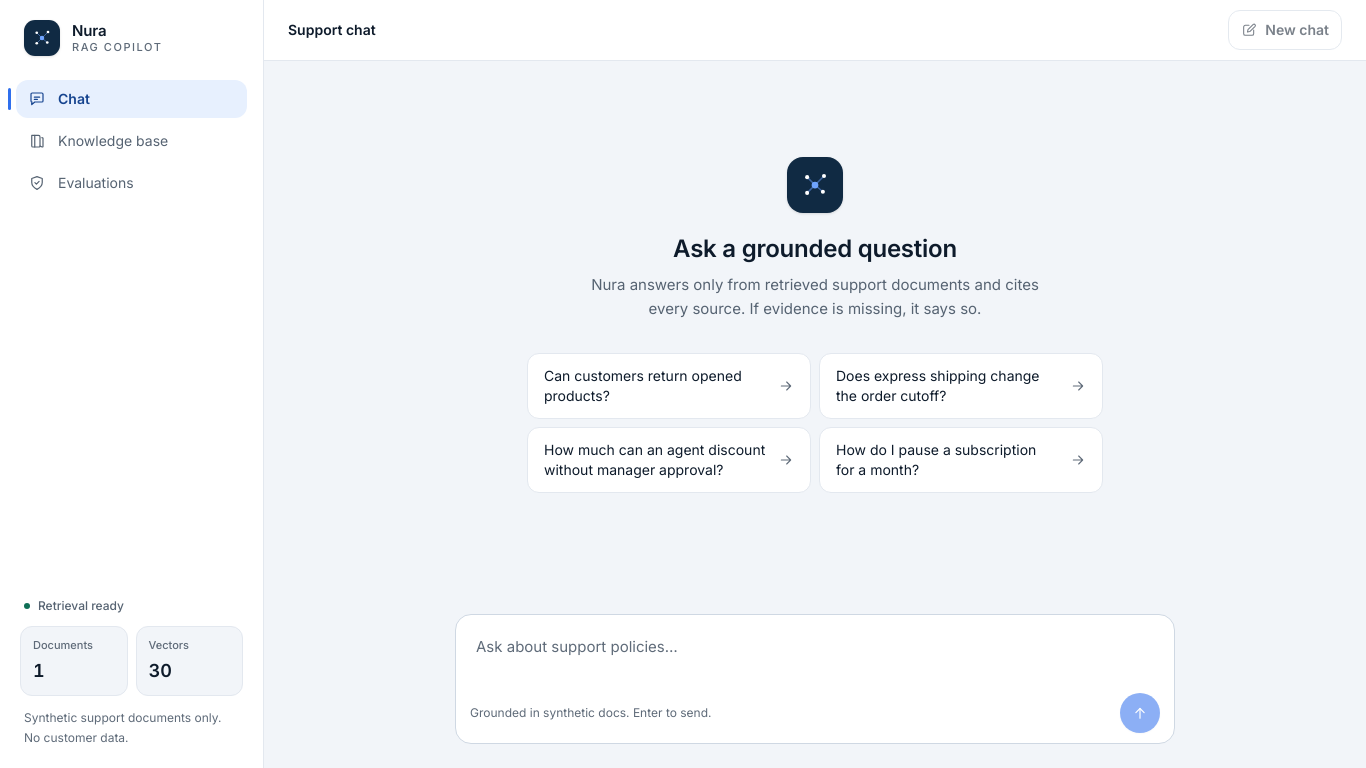
Scenario: RagVisibilityDashboard › keeps conversation context server-owned for follow-up questions
In the text box named "Question": {"x": 815, "y": 655} [464,623,1166,687], type "Can customers return opened products?"
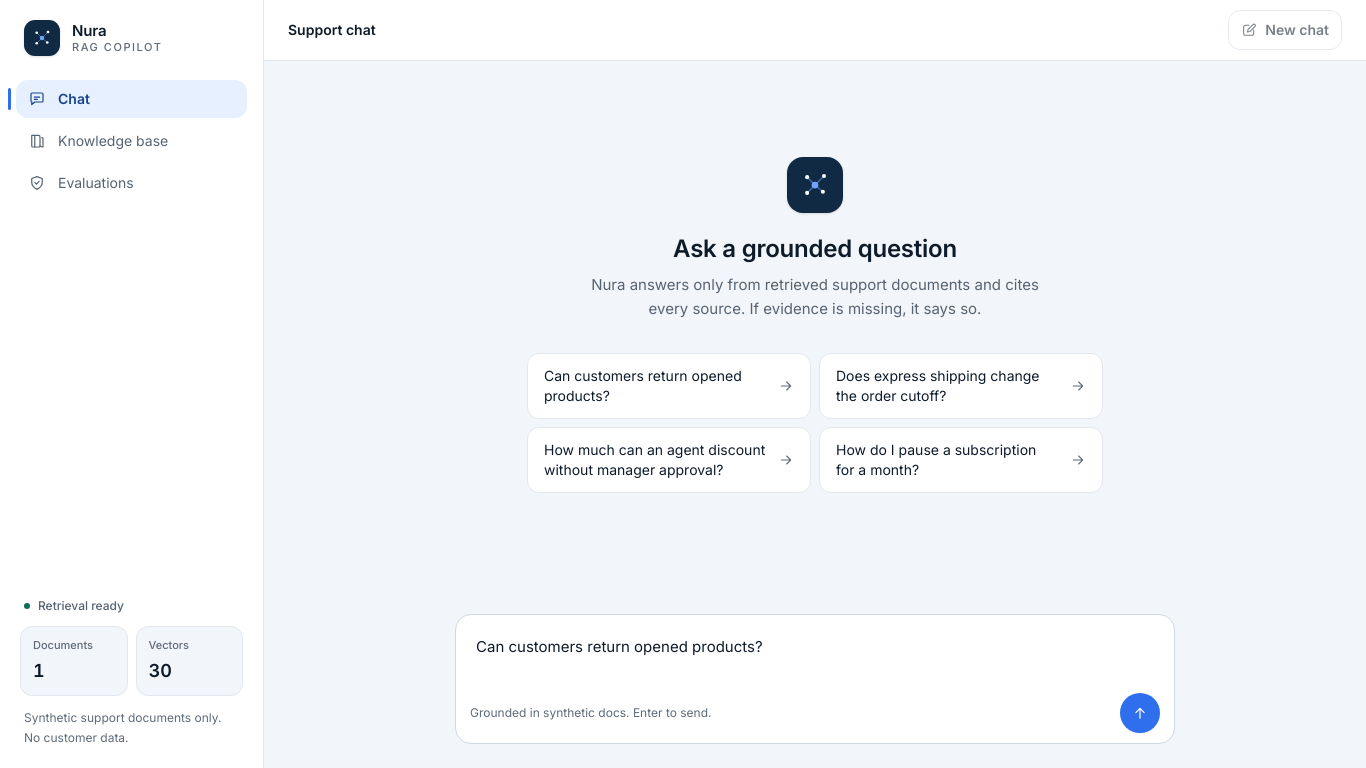
Click the button named "Generate answer": {"x": 1140, "y": 713} [1120,693,1160,733]
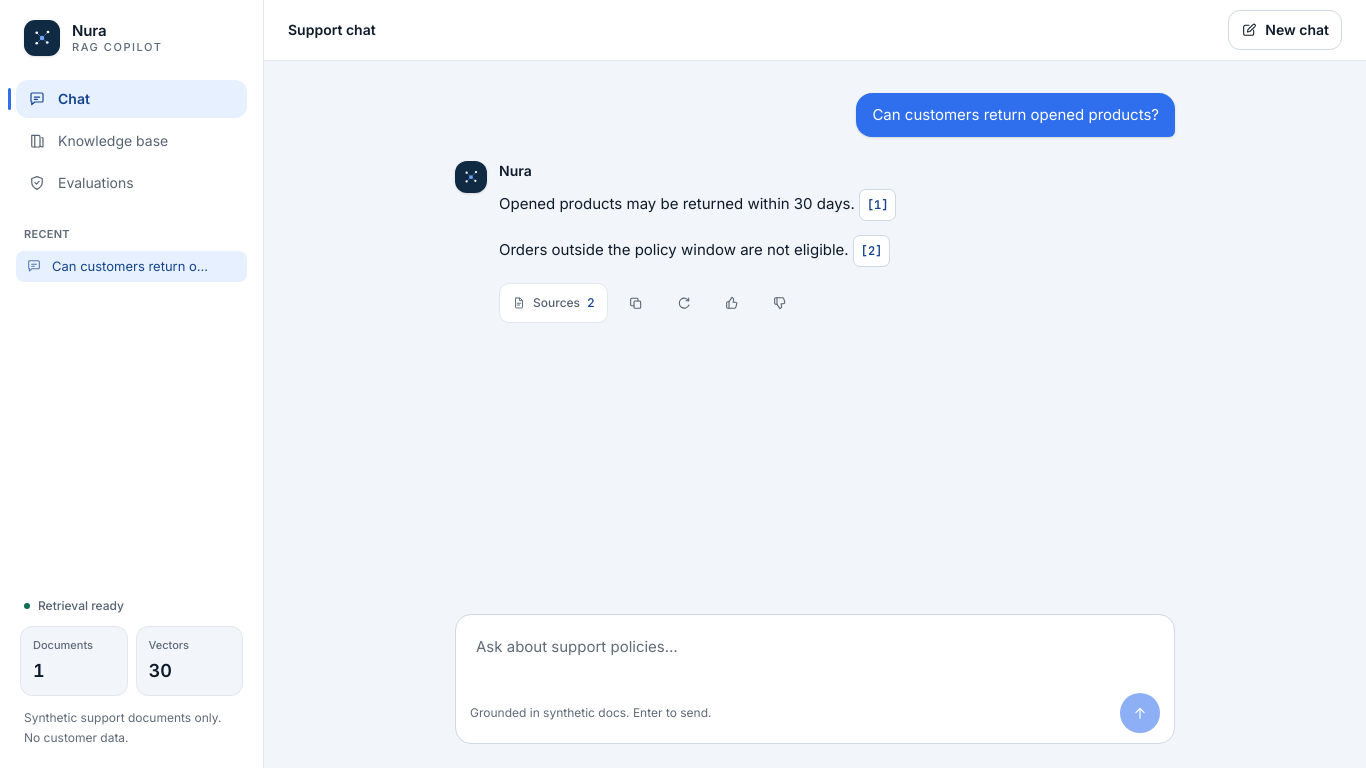
Expected: the text "Opened products may be returned within 30 days." is shown, [499,194,855,213]
In the text box named "Question": {"x": 815, "y": 655} [464,623,1166,687], type "What about express shipping?"
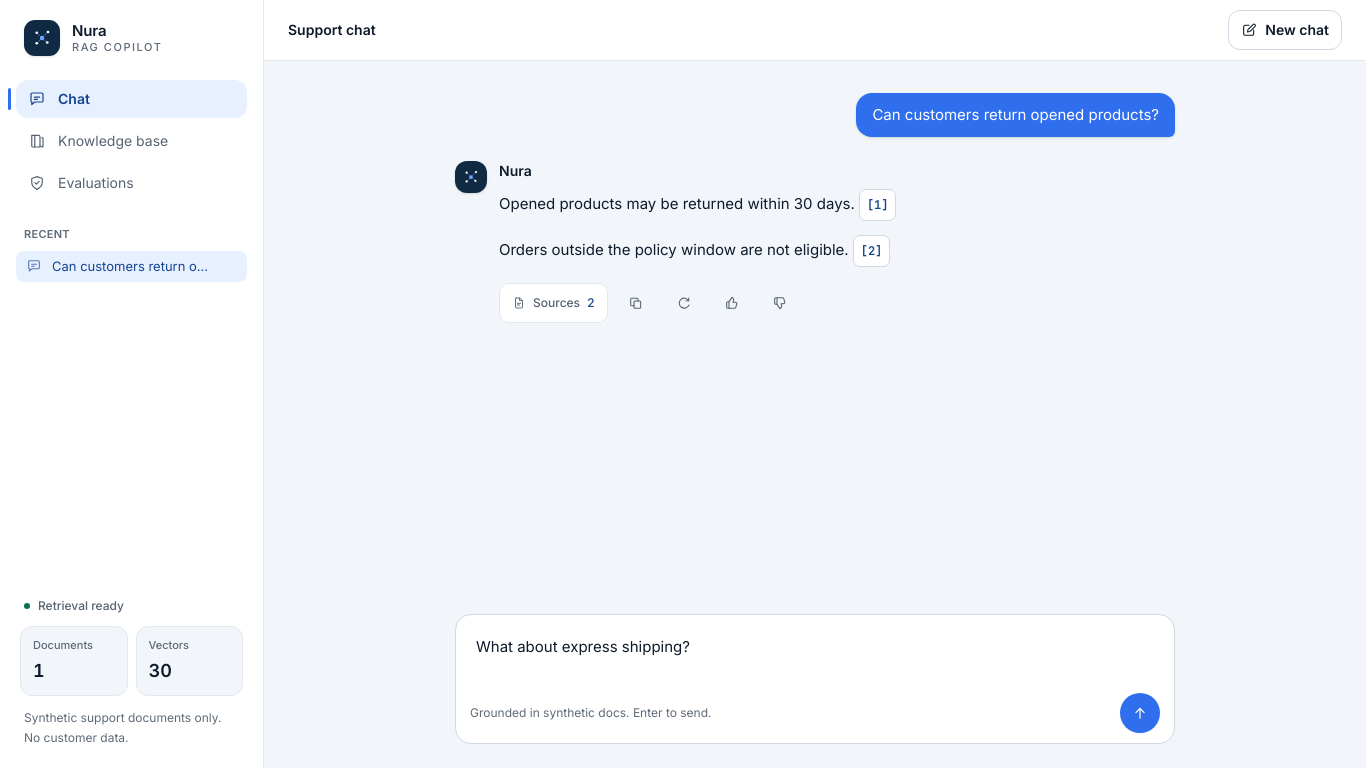
Click the button named "Generate answer": {"x": 1140, "y": 713} [1120,693,1160,733]
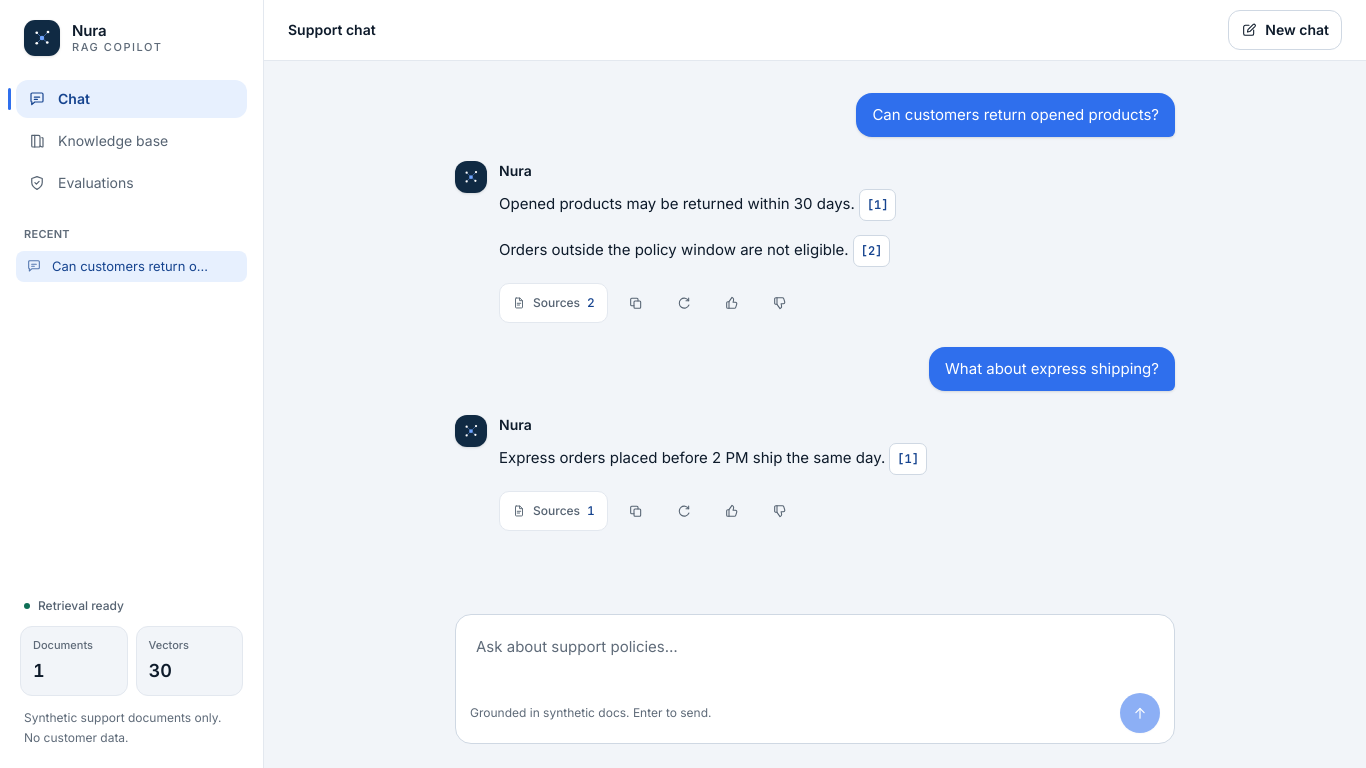
Expected: the text "Opened products may be returned within 30 days." is shown, [499,194,855,213]
Expected: the text "Express orders placed before 2 PM ship the same day." is shown, [499,448,885,467]
